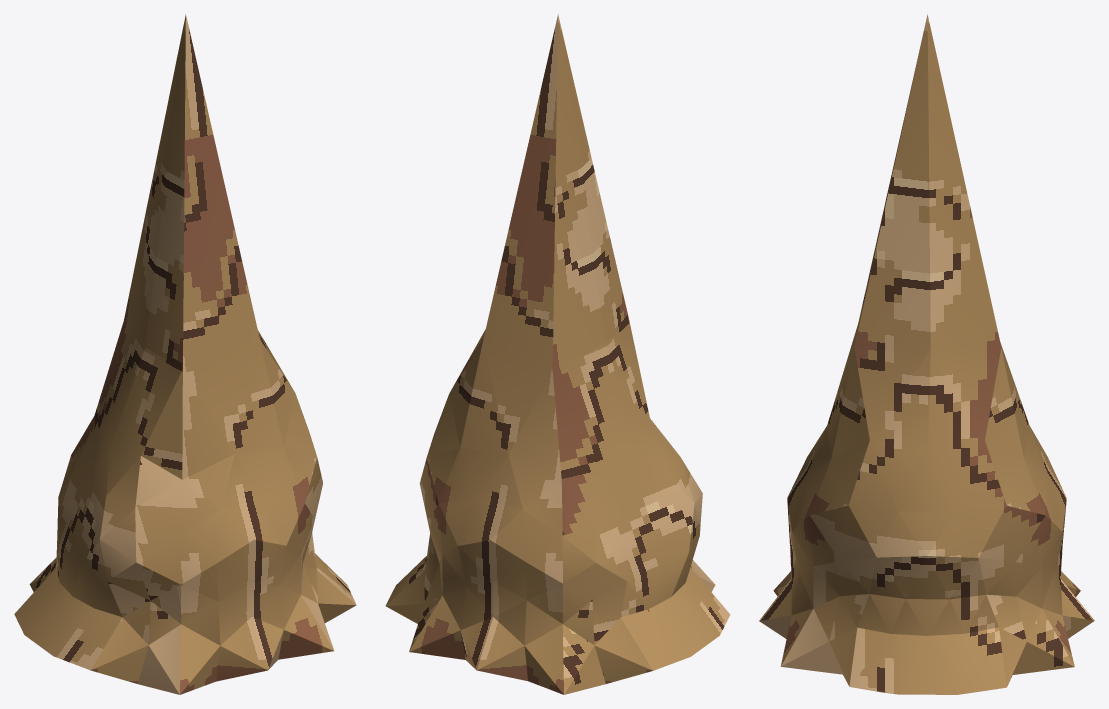
Rendered from stalagmite-300-10.glb.
The picture shows the model from 3 angles, left to right: view 1: azimuth 30°, elevation 25°; view 2: azimuth 150°, elevation 25°; view 3: azimuth 270°, elevation 25°; orthographic projection.
Bounding box in the file's own units: 0.4277 × 0.8944 × 0.4143.
Materials: 1 (1 with a texture image).
